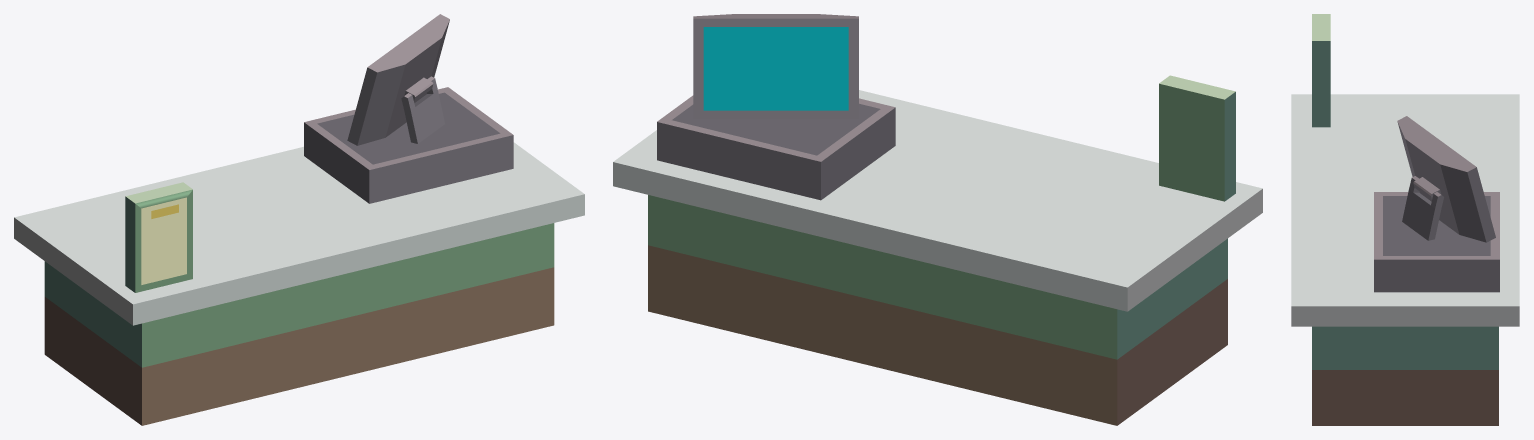
The model's file is DriveThruCounter.fbx.
3 renders of one model, left to right at view 1: azimuth 30°, elevation 25°; view 2: azimuth 150°, elevation 25°; view 3: azimuth 270°, elevation 25°, orthographic. The views are drawn at different scales.
Visible parts, largest first — view 1: DriveThruCounter; view 2: DriveThruCounter; view 3: DriveThruCounter.
Part boxes in pixels (x1,y1,x2,y2): DriveThruCounter: (14, 14, 584, 425); DriveThruCounter: (613, 14, 1262, 425); DriveThruCounter: (1291, 14, 1519, 425).
Size of the model in its own units: 138 by 74.47 by 62.79.
